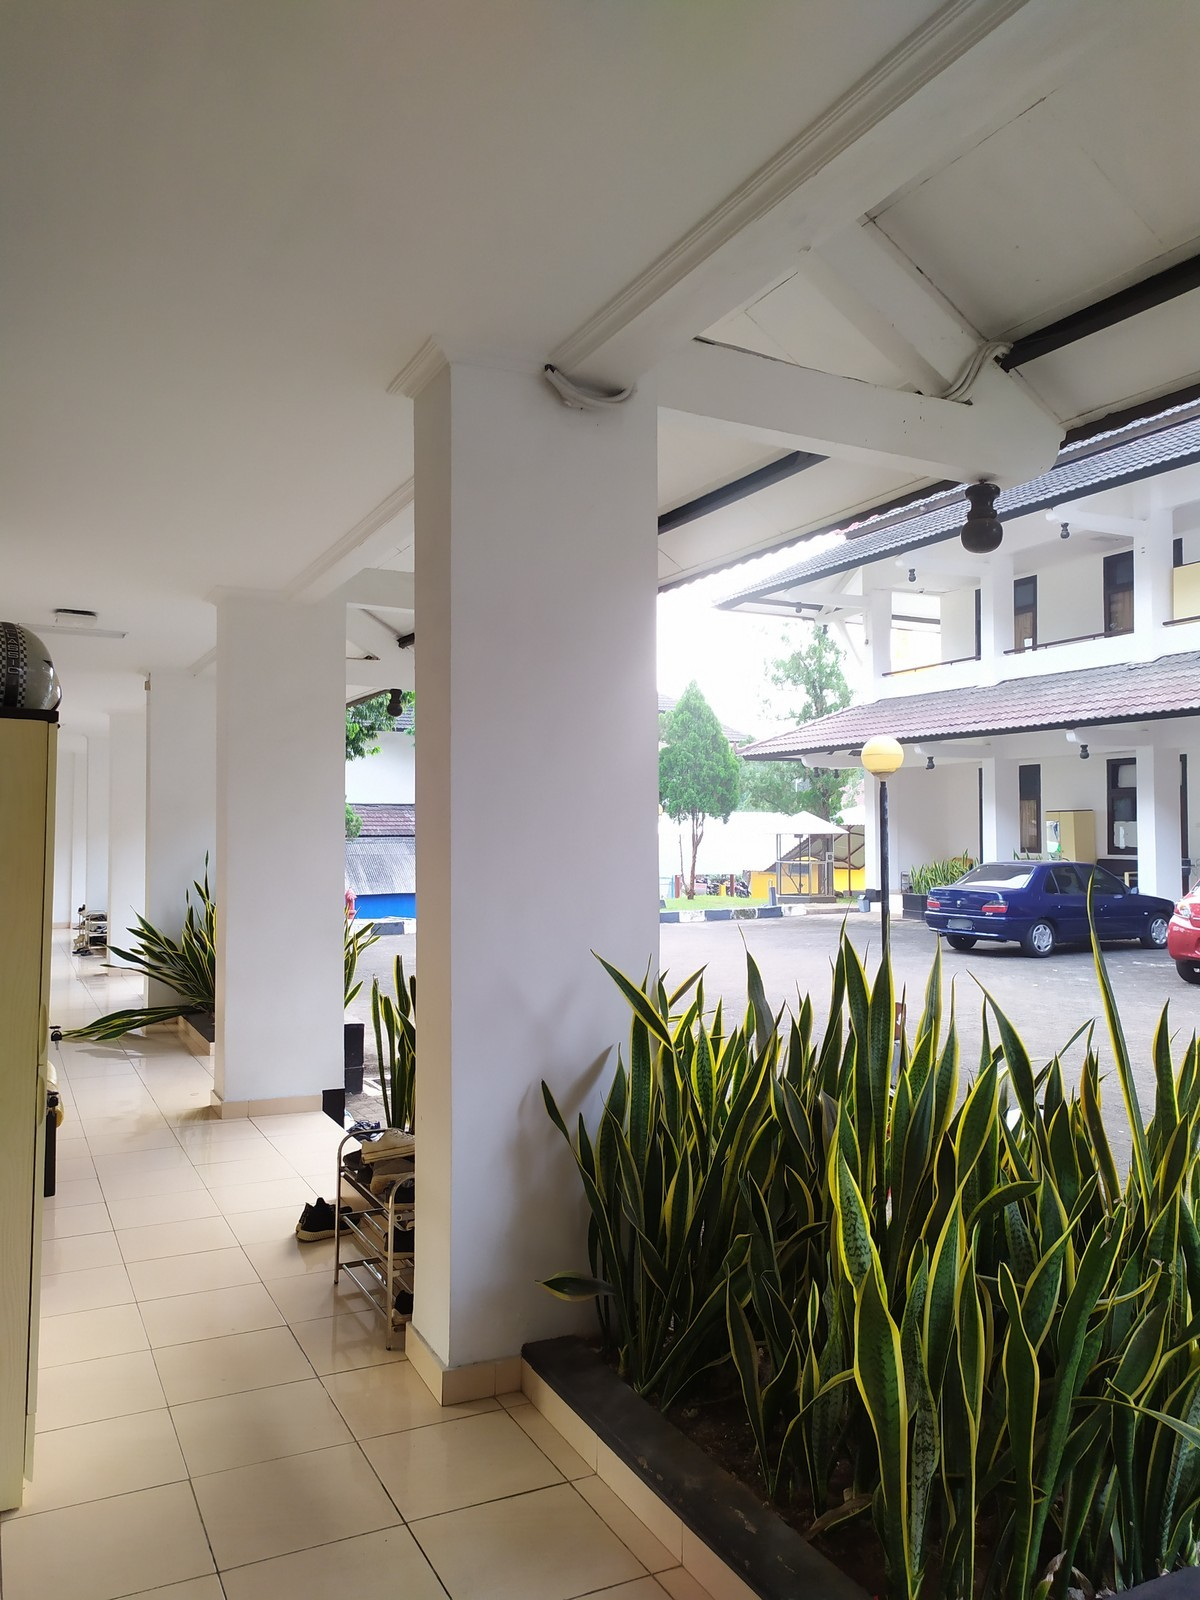concrete beam: (637, 317, 963, 498)
concrete column: (391, 328, 684, 1369), (198, 585, 363, 1123), (136, 663, 216, 1026), (1132, 746, 1192, 908), (1124, 505, 1177, 677), (977, 751, 1029, 866), (979, 558, 1020, 687), (855, 580, 896, 694)
